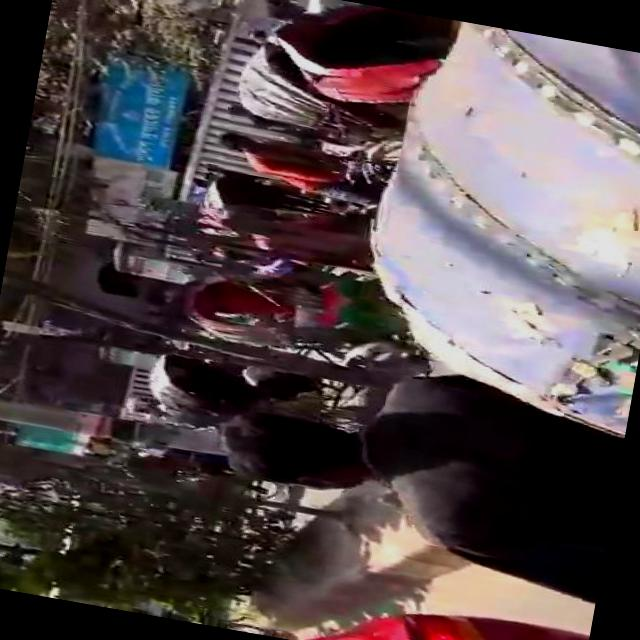car: (302, 580, 588, 640)
motorcycle: (333, 10, 640, 440), (163, 232, 434, 384), (184, 109, 403, 262), (254, 0, 449, 121), (220, 37, 430, 148), (135, 342, 338, 441)
